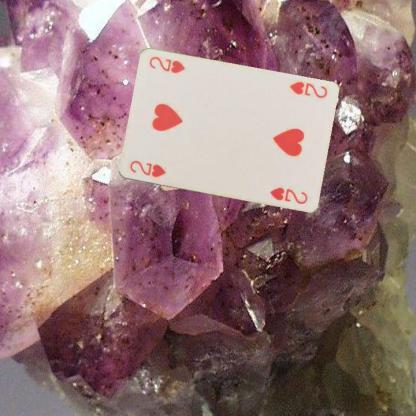2h: (287, 79, 328, 100), (127, 158, 167, 179)
